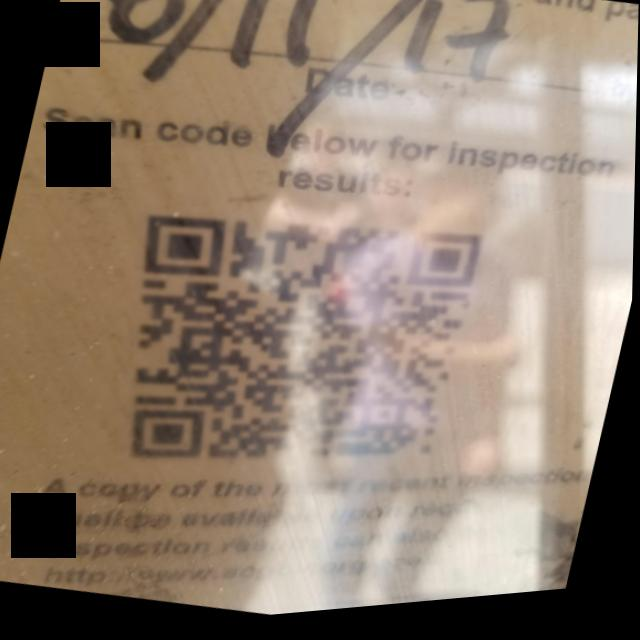QR_CODE: (73, 147, 501, 541)
